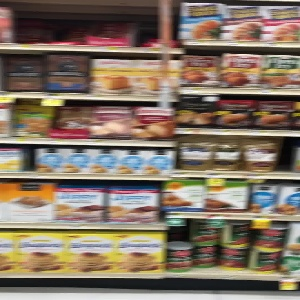void: (16, 1, 83, 44)
